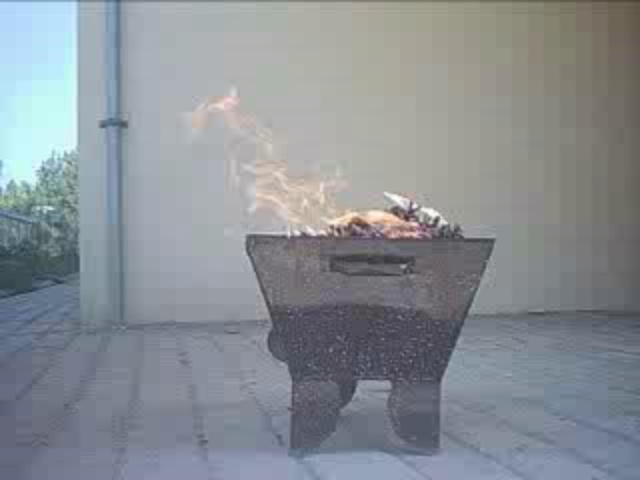fire: (198, 93, 341, 236), (367, 207, 425, 242)
